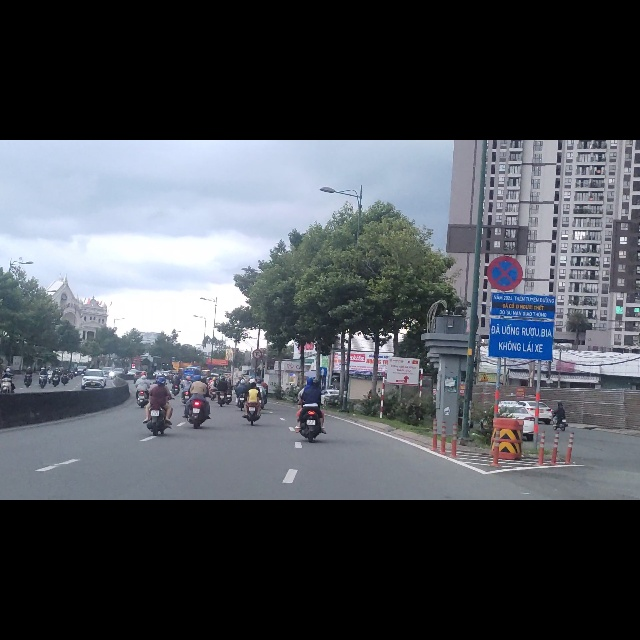bien_cam: (487, 205, 523, 268), (253, 372, 262, 389), (319, 403, 327, 418)
